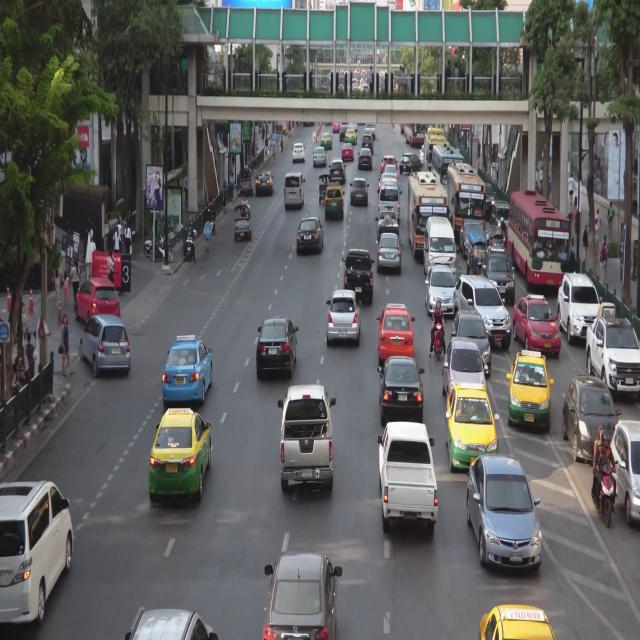bus: (508, 187, 569, 292), (407, 171, 450, 261), (448, 160, 487, 241), (433, 143, 464, 204), (422, 127, 447, 171), (400, 119, 430, 147)
car: (0, 468, 75, 635), (466, 451, 543, 575), (257, 542, 345, 640), (375, 417, 439, 537), (277, 382, 335, 502), (563, 367, 616, 469), (122, 592, 218, 640), (588, 313, 640, 399), (455, 274, 509, 350), (78, 314, 133, 382), (608, 418, 640, 522), (378, 352, 424, 419), (444, 340, 486, 411), (451, 312, 491, 378), (559, 272, 596, 342), (256, 317, 299, 377), (75, 277, 124, 327), (426, 218, 459, 277), (327, 290, 360, 347), (426, 264, 459, 319), (345, 247, 373, 306), (489, 257, 515, 300), (296, 217, 325, 255), (379, 231, 402, 273), (487, 230, 508, 271), (377, 184, 399, 223), (464, 217, 485, 257), (492, 196, 511, 240), (282, 173, 304, 211), (377, 211, 400, 247), (468, 229, 484, 277), (234, 203, 252, 243), (402, 150, 423, 174), (256, 170, 276, 195), (237, 166, 253, 196), (350, 179, 369, 203), (330, 156, 346, 181), (376, 176, 399, 193), (311, 145, 327, 169), (382, 151, 397, 173), (360, 134, 374, 154), (292, 142, 305, 163), (358, 150, 373, 168), (343, 145, 354, 160), (364, 124, 375, 138)
pedestrian: (58, 312, 74, 379), (52, 262, 62, 312), (599, 239, 609, 287), (70, 257, 80, 303), (105, 250, 116, 289), (25, 334, 35, 376), (202, 215, 212, 257), (594, 206, 603, 246), (601, 231, 610, 270), (124, 223, 133, 260), (20, 303, 28, 344), (113, 226, 122, 259), (583, 223, 589, 264), (568, 172, 575, 206), (608, 197, 614, 235), (62, 273, 69, 305), (534, 167, 540, 189), (539, 165, 544, 187)
taxi: (151, 405, 215, 506), (444, 382, 498, 481), (506, 349, 552, 438), (163, 331, 216, 406), (510, 289, 562, 362), (477, 602, 559, 640), (375, 299, 417, 366), (325, 181, 347, 224), (344, 128, 358, 146), (320, 132, 333, 149)
